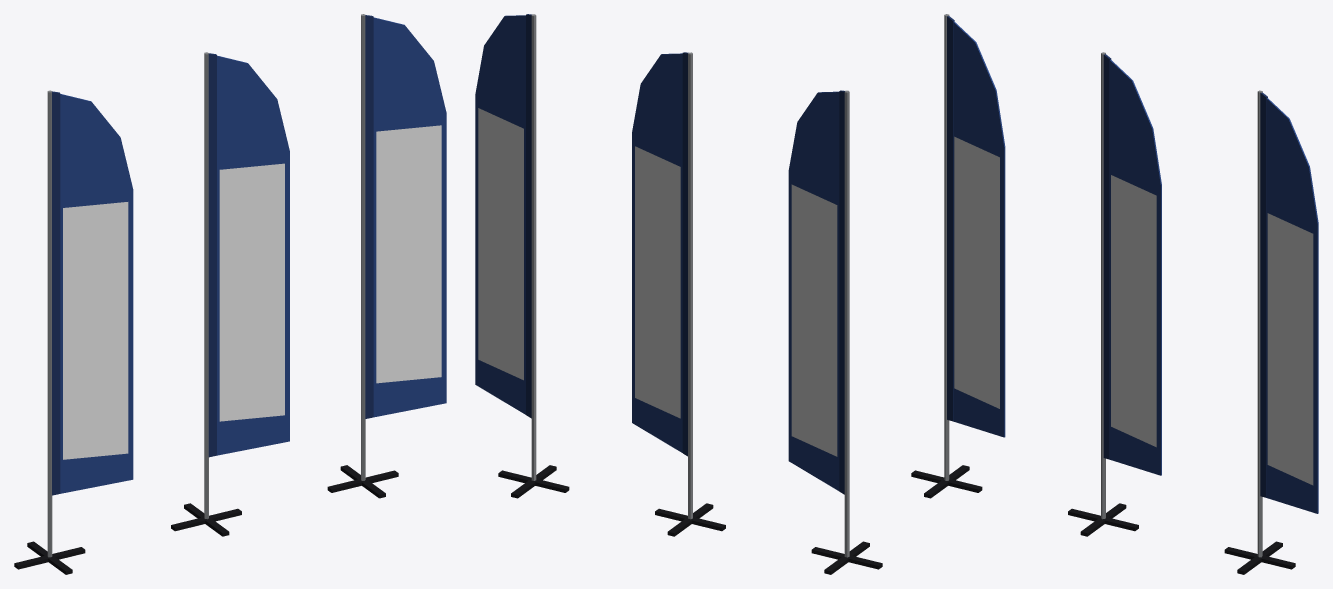
The model's file is feather_flags.glb.
3 renders of one model, left to right at view 1: azimuth 30°, elevation 25°; view 2: azimuth 150°, elevation 25°; view 3: azimuth 330°, elevation 25°, orthographic.
Visible parts, largest first — view 1: FlagWordsF, Flag32WordsF, Flag30WordsF, Flag32, Flag, Flag30, Flag30Pole, Flag32Pole, Flag31Pole; view 2: Flag30WordsB, FlagWordsB, Flag32WordsB, Flag32, Flag30, Flag, Flag30Pole, Flag32Pole, Flag31Pole; view 3: Flag32WordsF, FlagWordsF, Flag30WordsF, Flag, Flag32, Flag30, Flag32Pole, Flag30Pole, Flag31Pole.
Boxes of the visible parts, box(x1,y1,x2,y2) form: FlagWordsF: box(219, 163, 284, 421); Flag32WordsF: box(376, 125, 441, 383); Flag30WordsF: box(63, 202, 128, 459); Flag32: box(365, 15, 446, 418); Flag: box(208, 53, 289, 457); Flag30: box(52, 91, 133, 495); Flag30Pole: box(14, 90, 85, 574); Flag32Pole: box(327, 14, 398, 498); Flag31Pole: box(171, 52, 241, 536); Flag30WordsB: box(791, 184, 837, 456); FlagWordsB: box(635, 146, 680, 418); Flag32WordsB: box(478, 108, 523, 380); Flag32: box(475, 14, 531, 418); Flag30: box(788, 90, 844, 494); Flag: box(632, 52, 688, 456); Flag30Pole: box(811, 90, 882, 574); Flag32Pole: box(498, 14, 569, 498); Flag31Pole: box(655, 52, 725, 536); Flag32WordsF: box(1267, 213, 1313, 485); FlagWordsF: box(1111, 175, 1156, 447); Flag30WordsF: box(954, 136, 999, 408); Flag: box(1103, 54, 1161, 475); Flag32: box(1260, 92, 1318, 513); Flag30: box(947, 16, 1005, 437); Flag32Pole: box(1224, 90, 1295, 574); Flag30Pole: box(911, 14, 982, 498); Flag31Pole: box(1068, 52, 1138, 536).
Bounding box in the file's own units: 3.73 × 4 × 0.6.
